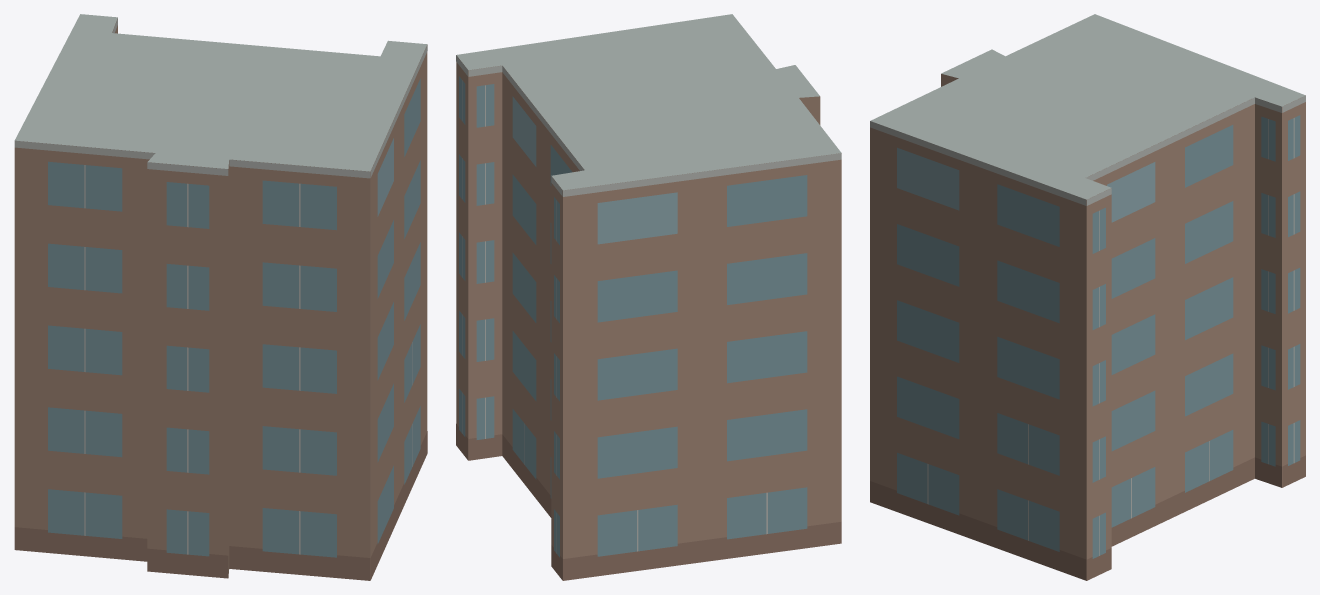
File: survey-upis-32952754.glb
3 renders of one model, left to right at view 1: azimuth 30°, elevation 25°; view 2: azimuth 150°, elevation 25°; view 3: azimuth 270°, elevation 25°, orthographic. The views are drawn at different scales.
Visible parts, largest first — view 1: survey-upis-32952754.tmp; view 2: survey-upis-32952754.tmp; view 3: survey-upis-32952754.tmp.
Boxes of the visible parts, x1,y1,x2,y2 form: survey-upis-32952754.tmp: (14,14,427,580); survey-upis-32952754.tmp: (456,14,841,580); survey-upis-32952754.tmp: (870,14,1305,580).
Bounding box in the file's own units: 15.05 × 14.4 × 14.93.
